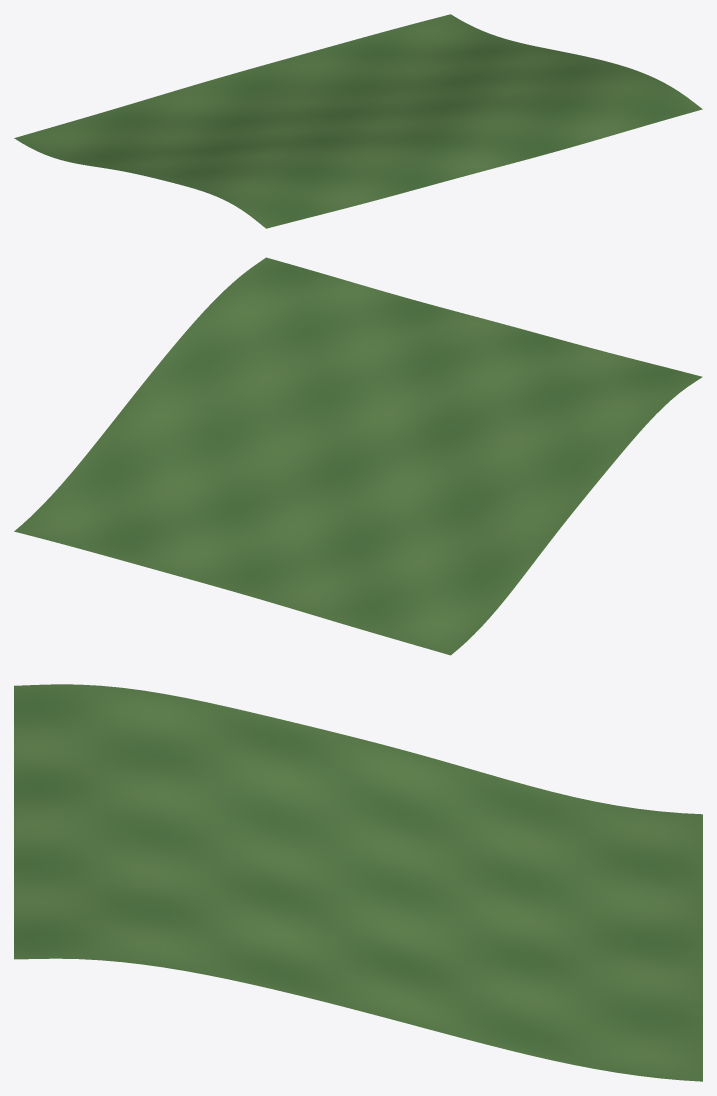
File: chunk_10_12.glb
The picture shows the model from 3 angles, top to bottom: view 1: azimuth 30°, elevation 25°; view 2: azimuth 150°, elevation 25°; view 3: azimuth 270°, elevation 25°; orthographic projection. The views are drawn at different scales.
Size of the model in its own units: 512 by 120 by 512.
